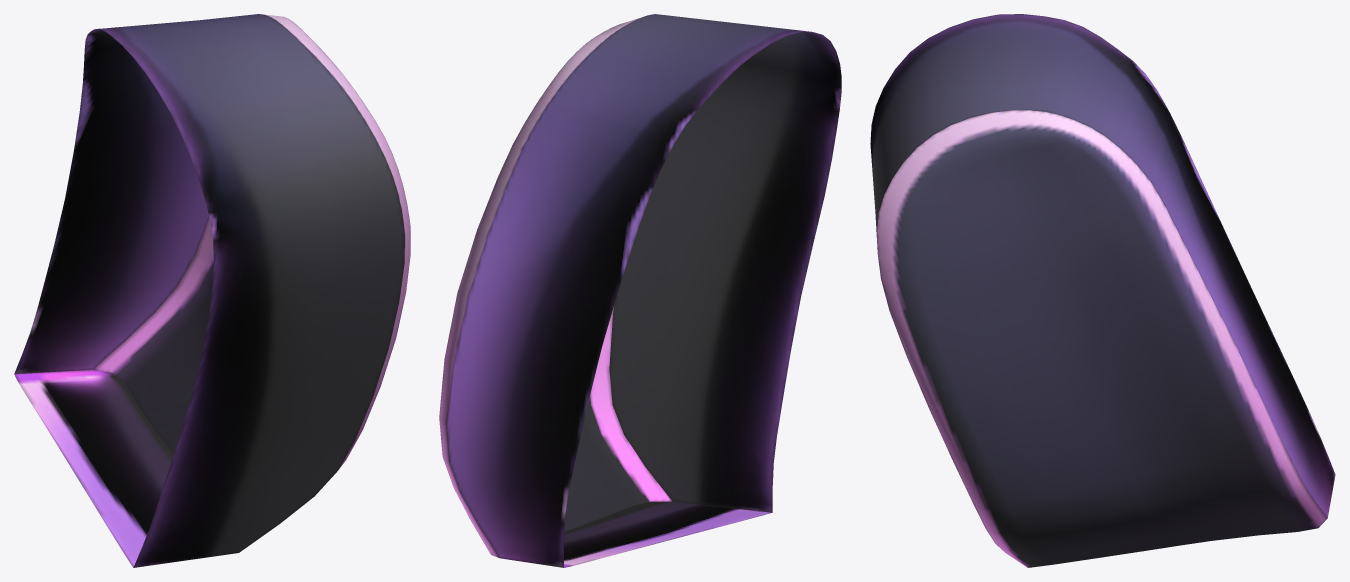
The model's file is oculus_quest_plus_controller_left_grip.obj.
3 views of the same model, side by side, from view 1: azimuth 30°, elevation 25°; view 2: azimuth 150°, elevation 25°; view 3: azimuth 270°, elevation 25° (orthographic). The views are drawn at different scales.
Visible parts, largest first — view 1: oculus_quest_plus_controller_left_grip; view 2: oculus_quest_plus_controller_left_grip; view 3: oculus_quest_plus_controller_left_grip.
Part boxes in pixels (left/top/right/bottom): oculus_quest_plus_controller_left_grip: left=14, top=14, right=410, bottom=567; oculus_quest_plus_controller_left_grip: left=439, top=14, right=841, bottom=567; oculus_quest_plus_controller_left_grip: left=870, top=14, right=1335, bottom=567.
Size of the model in its own units: 0.0119 by 0.0252 by 0.0215.
1 material, 1 textured.
